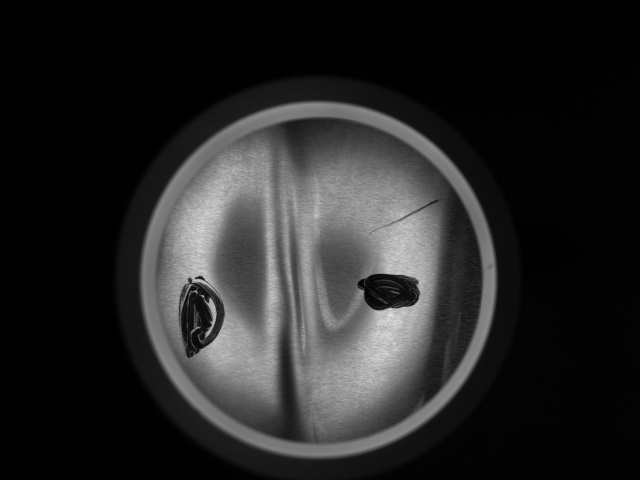ca_shang: (357, 194, 455, 241)
zang_wu: (172, 271, 234, 358), (357, 273, 426, 311)
zhe_zhou: (196, 152, 440, 411)
